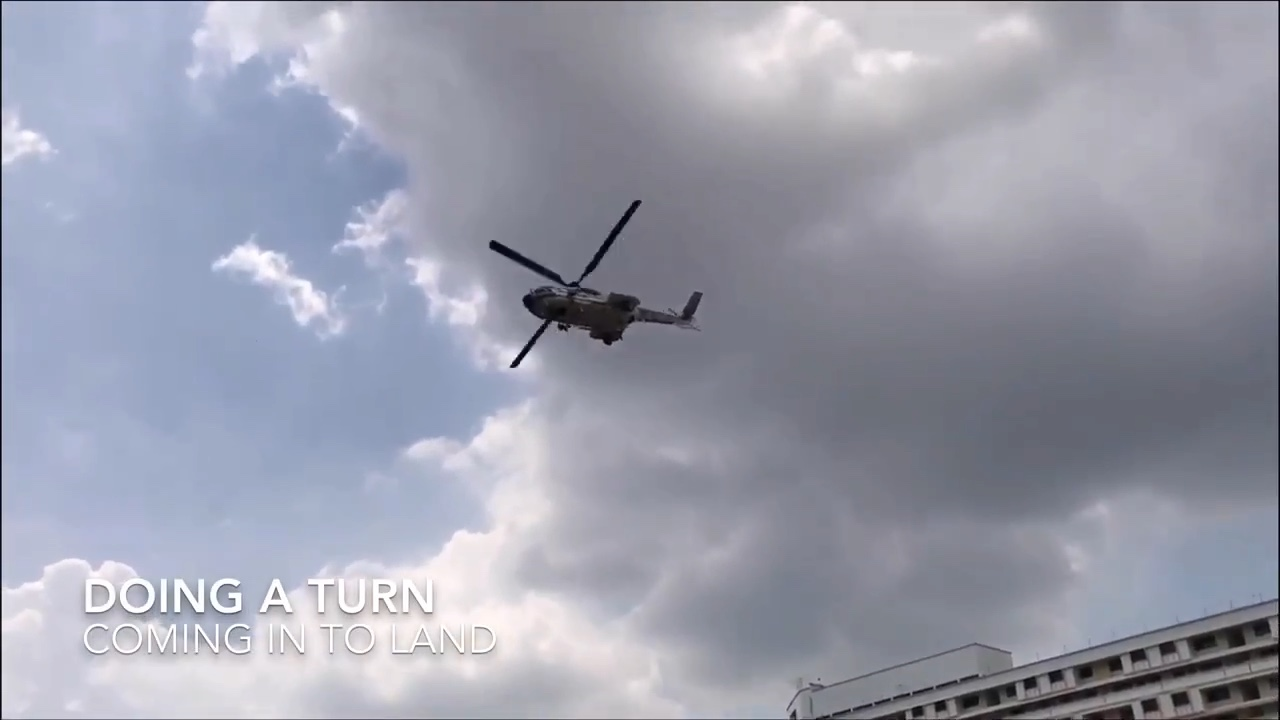cougar: (487, 200, 706, 373)
